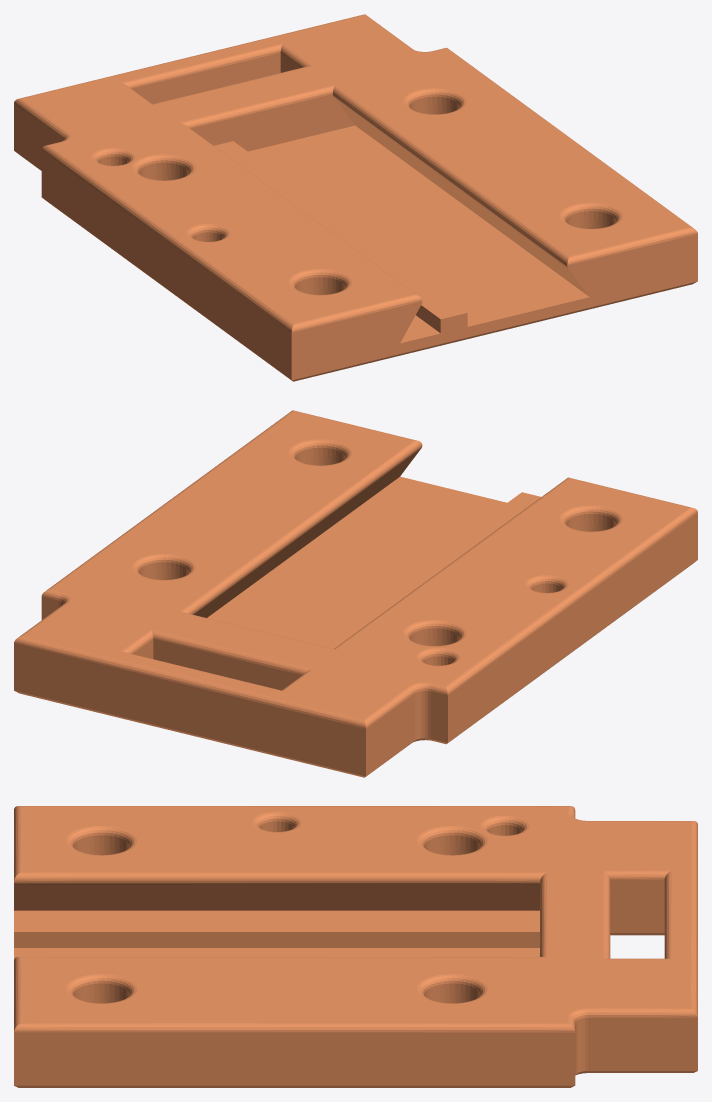
The model's file is qr_receiver.glb.
3 renders of one model, top to bottom at view 1: azimuth 30°, elevation 25°; view 2: azimuth 150°, elevation 25°; view 3: azimuth 270°, elevation 25°, orthographic. The views are drawn at different scales.
Parts seen in each view (by area): view 1: qr_receiver; view 2: qr_receiver; view 3: qr_receiver.
Part boxes in pixels (x1,y1,x2,y2): qr_receiver: [14, 14, 697, 381]; qr_receiver: [14, 410, 697, 777]; qr_receiver: [14, 806, 697, 1087].
Bounding box in the file's own units: 0.06 × 0.008 × 0.078.
